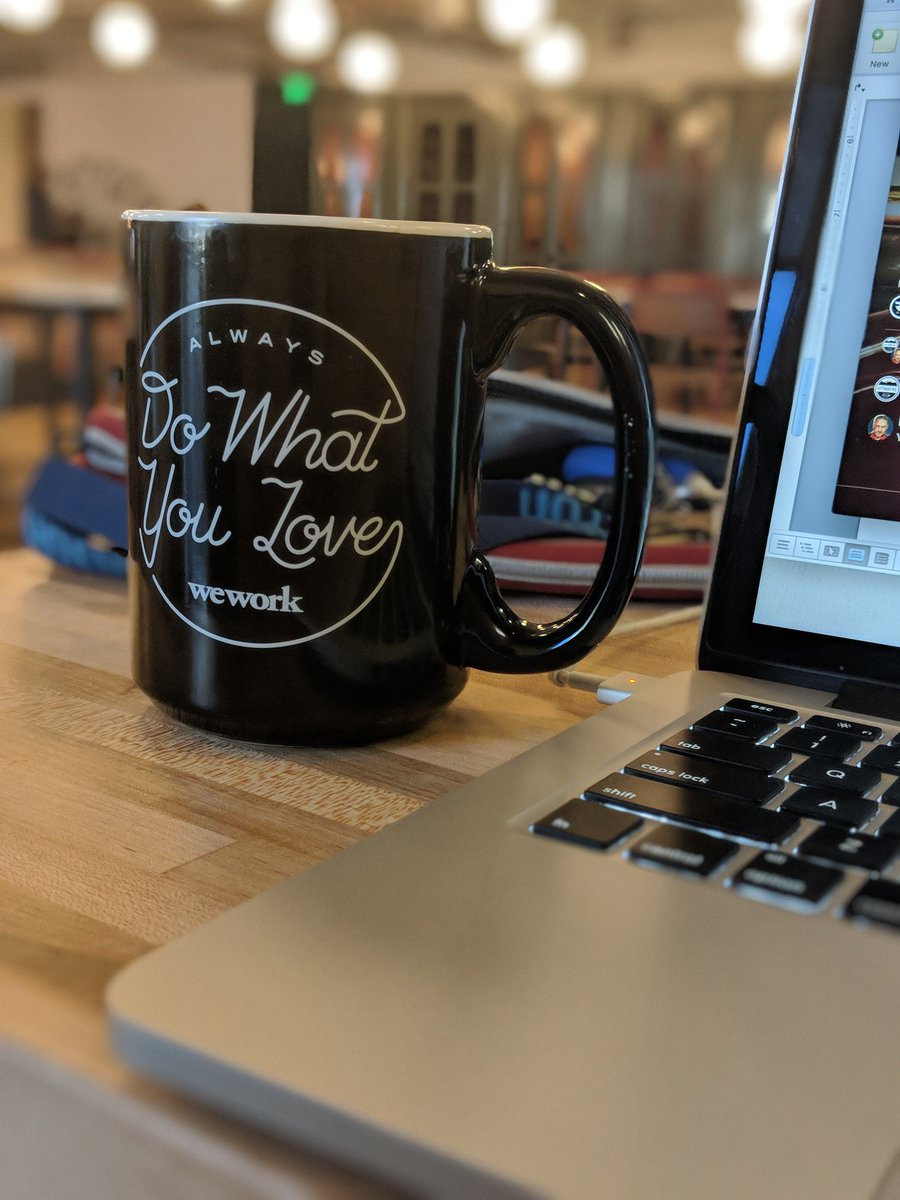wework: (181, 573, 309, 616)
